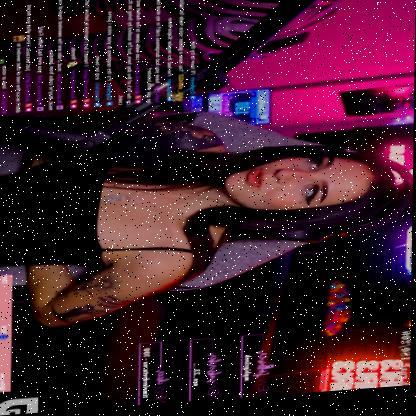streamer: (0, 100, 415, 333)
